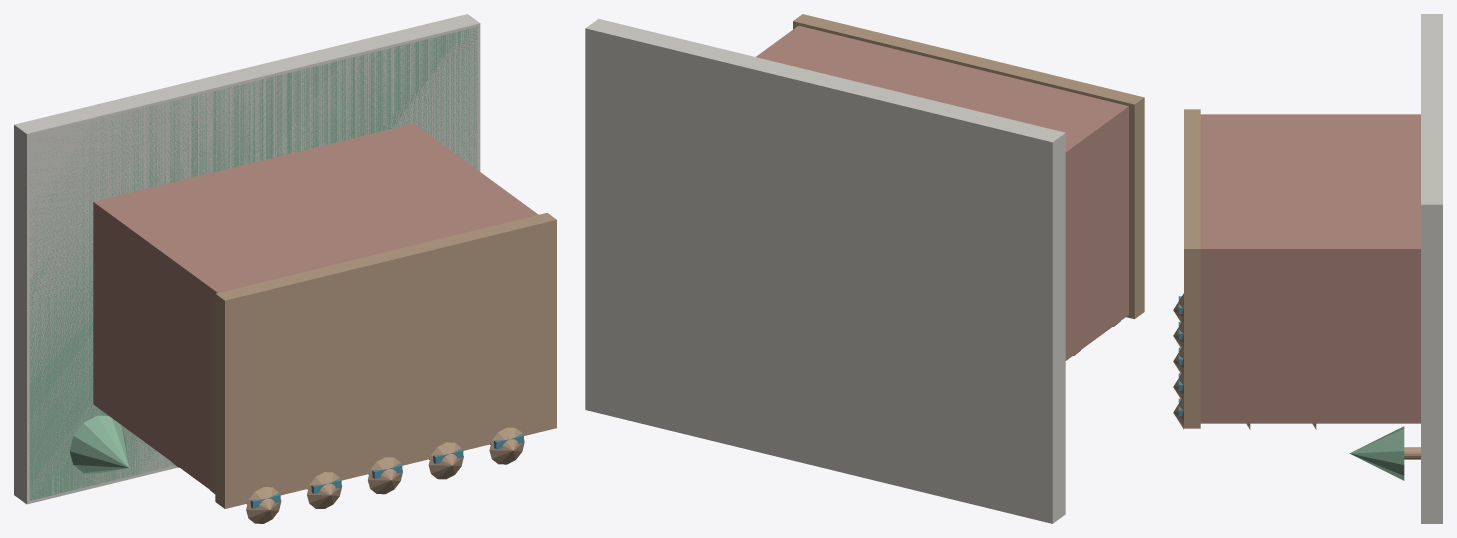
File: miyahara.glb
3 views of the same model, side by side, from view 1: azimuth 30°, elevation 25°; view 2: azimuth 150°, elevation 25°; view 3: azimuth 270°, elevation 25° (orthographic). The views are drawn at different scales.
Parts seen in each view (by area): view 1: g3, g0, g2, g1, g36, g33, g27, g9, g21, g15; view 2: g0, g2, g3; view 3: g2, g0, g3, g40.
Part boxes in pixels (box(x1,y1,x2,y2)): g3: box(215, 213, 556, 508); g0: box(14, 14, 480, 504); g2: box(93, 123, 538, 493); g1: box(29, 27, 477, 500); g36: box(69, 415, 128, 473); g33: box(489, 427, 524, 464); g27: box(428, 442, 463, 479); g9: box(246, 487, 281, 523); g21: box(368, 457, 402, 494); g15: box(307, 472, 342, 508); g0: box(585, 19, 1065, 523); g2: box(756, 25, 1128, 360); g3: box(793, 14, 1144, 319); g2: box(1200, 114, 1420, 423); g0: box(1421, 14, 1442, 523); g3: box(1184, 109, 1200, 428); g40: box(1349, 426, 1404, 480).
Size of the model in its own units: 82 by 64 by 49.
